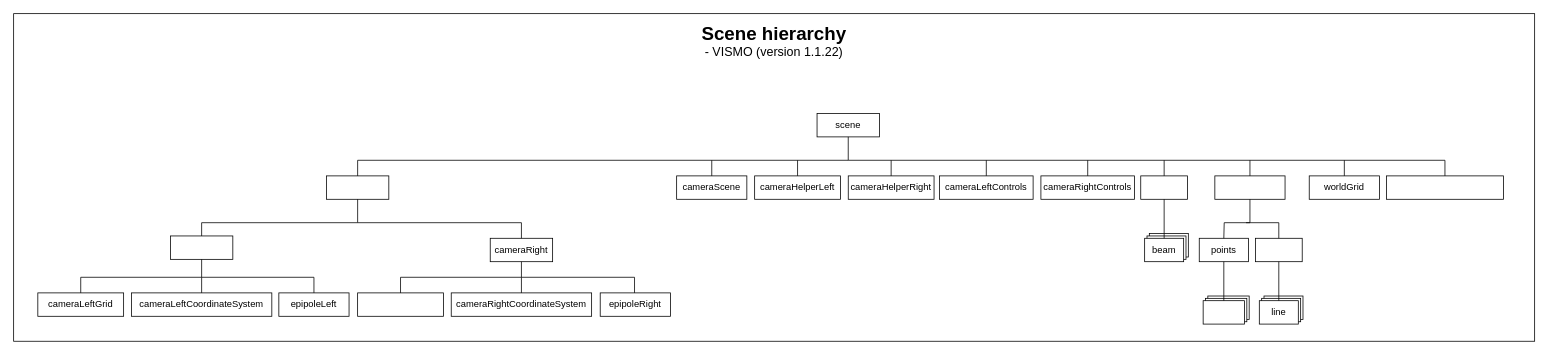
Image size: 1548x355. Some labels were removed from this diagram. Here are the shapes that lost their labels. From the top down, the centre of each, then its label:
the point at 357,187: cameras
the point at 1164,187: beams
the point at 1249,187: selectables
the point at 1444,187: wordCoordinateSystem
the point at 201,247: cameraLeft
the point at 1278,250: lines
the point at 400,304: cameraRightGrid
the point at 1223,312: point
